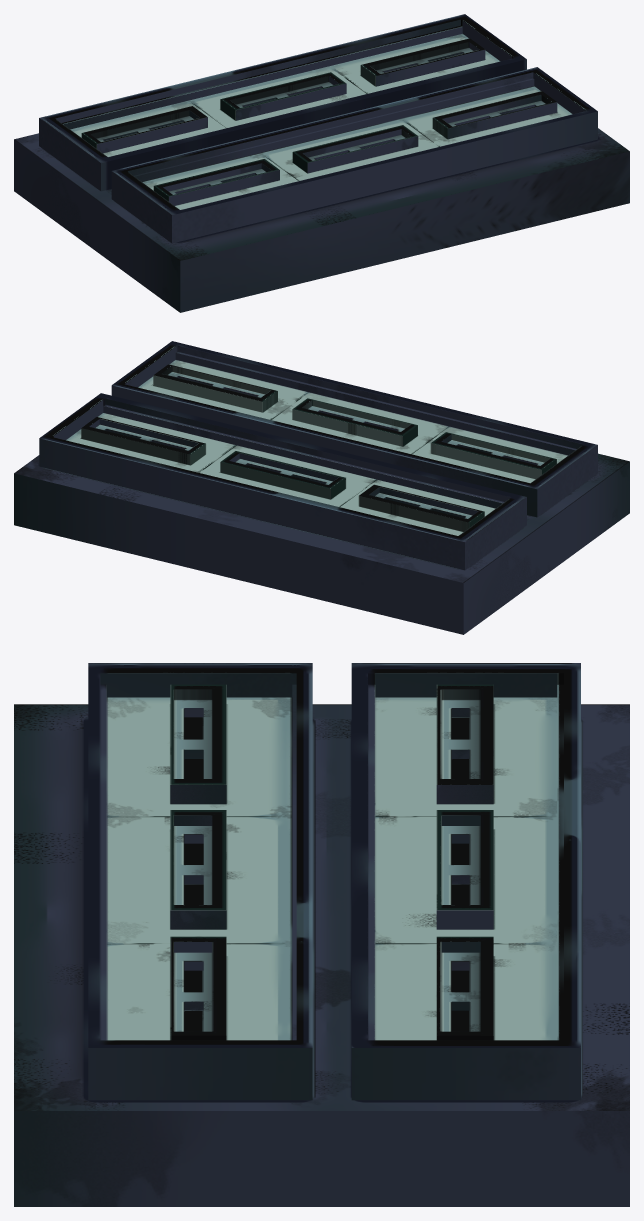
The model's file is Panel.fbx.
3 views of the same model, one above another, from view 1: azimuth 30°, elevation 25°; view 2: azimuth 150°, elevation 25°; view 3: azimuth 270°, elevation 25° (orthographic). The views are drawn at different scales.
Parts seen in each view (by area): view 1: Panel Mesh; view 2: Panel Mesh; view 3: Panel Mesh.
Part boxes in pixels (x1,y1,x2,y2): Panel Mesh: (14,14,629,312); Panel Mesh: (14,341,629,634); Panel Mesh: (14,663,629,1206).
Size of the model in its own units: 123 by 20.86 by 78.52.
Materials: 1 (1 with a texture image).
